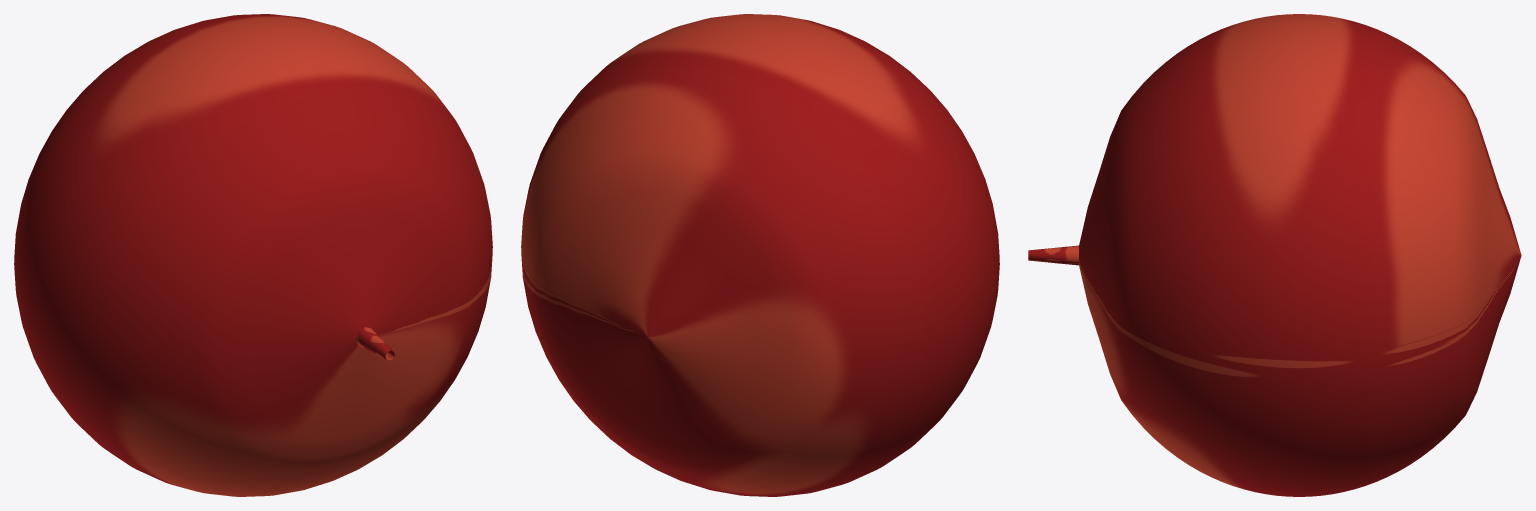
File: apple_01_v2.obj
3 renders of one model, left to right at view 1: azimuth 30°, elevation 25°; view 2: azimuth 150°, elevation 25°; view 3: azimuth 270°, elevation 25°, orthographic.
Size of the model in its own units: 2 by 2 by 2.04.
Materials: 1 (1 with a texture image).
